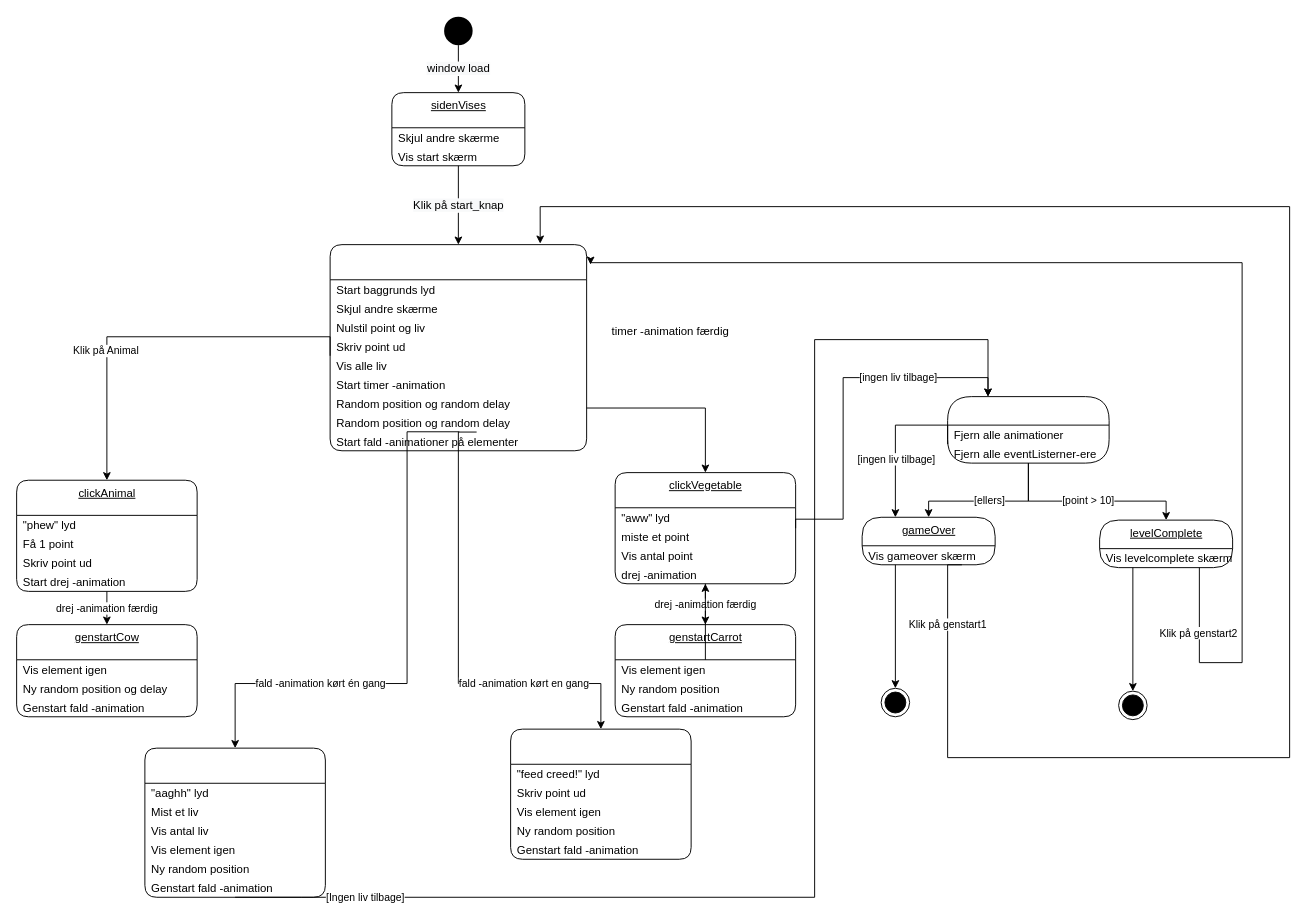
This 1314x922 diagram has some shape labels left out. Each missing label, with the box of its shape:
bottomCarrot: (510, 728, 691, 859)
bottomCow: (144, 747, 325, 897)
startGame: (329, 244, 587, 451)
stopSpillet: (947, 396, 1109, 463)
